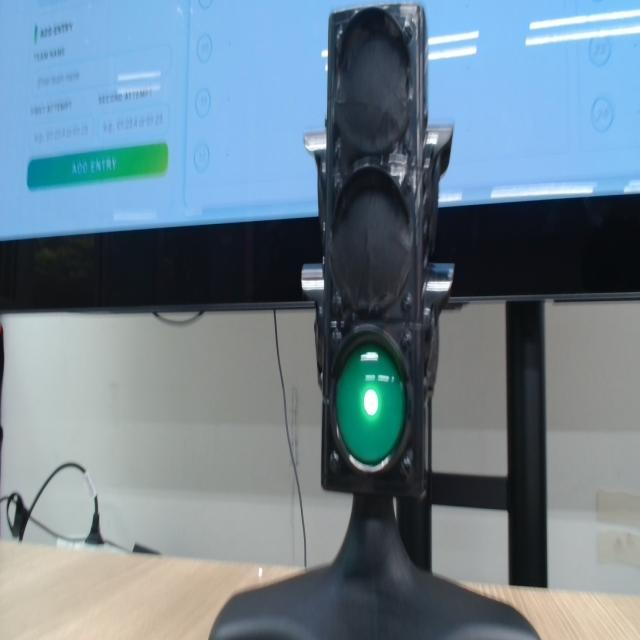green_light: (336, 344, 405, 466), (364, 389, 378, 416)
